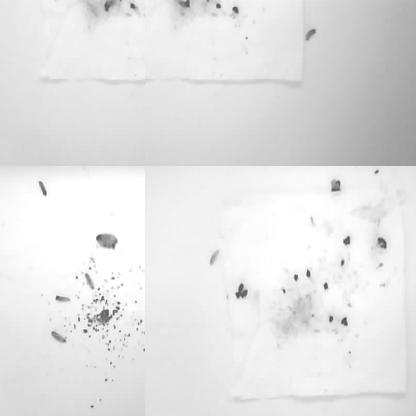PtecticusTenebrifer: (97, 234, 118, 250), (50, 330, 68, 345), (209, 246, 221, 268), (304, 28, 318, 45), (84, 271, 95, 292), (38, 179, 48, 198), (0, 310, 8, 330), (54, 294, 71, 303), (207, 0, 224, 6), (52, 0, 60, 12), (290, 0, 308, 4), (0, 343, 6, 355), (0, 4, 6, 14), (145, 0, 151, 8), (0, 166, 8, 171), (145, 149, 147, 166)
